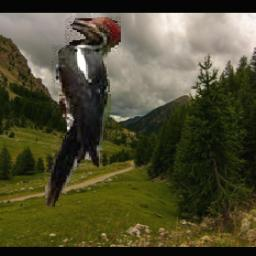Woodpecker: (46, 16, 122, 208)
